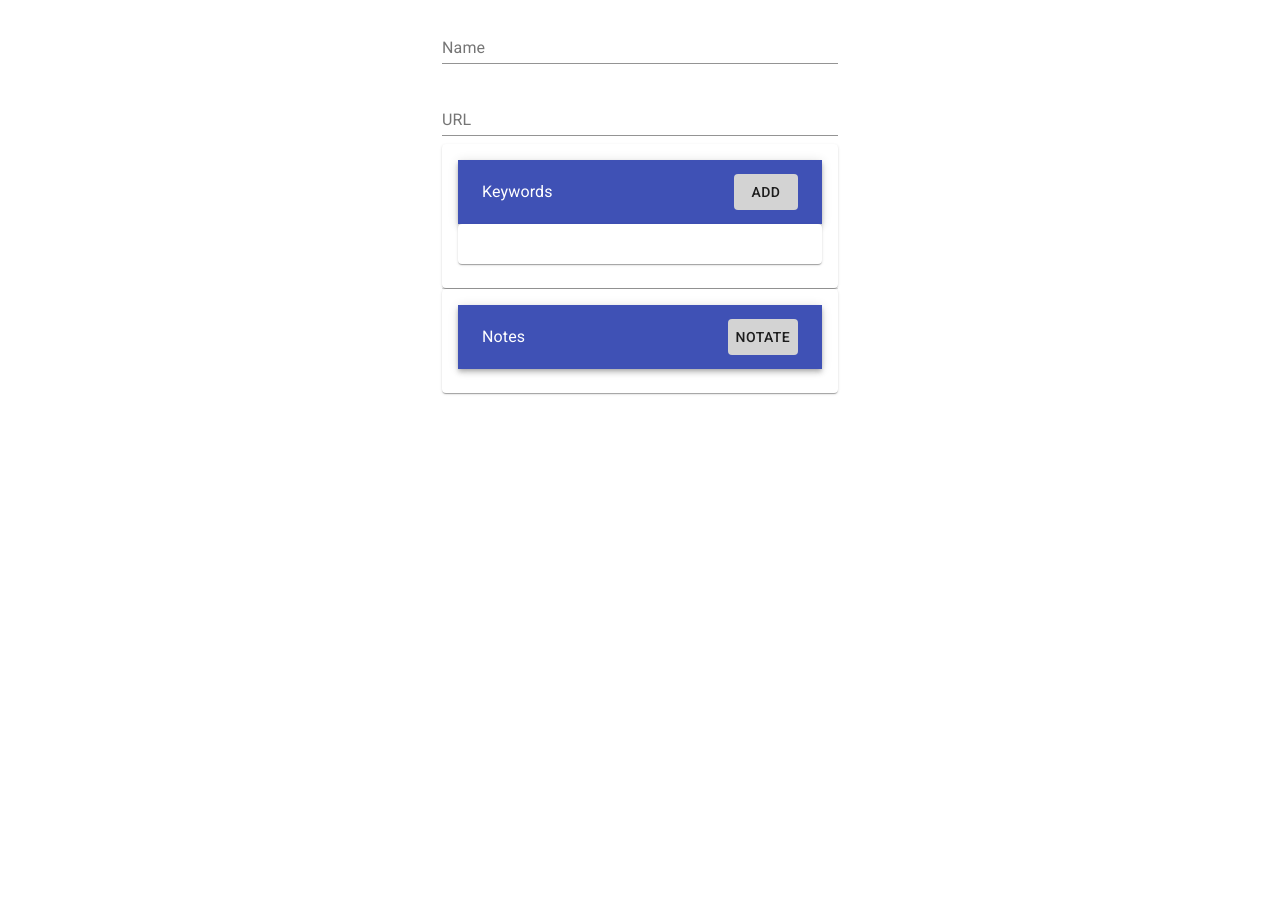
Scenario: Material component tests › keys entries
Expected: the text "Add" is shown, [752,184,780,200]
Click the button "Add": (766, 192) [734,174,798,210]
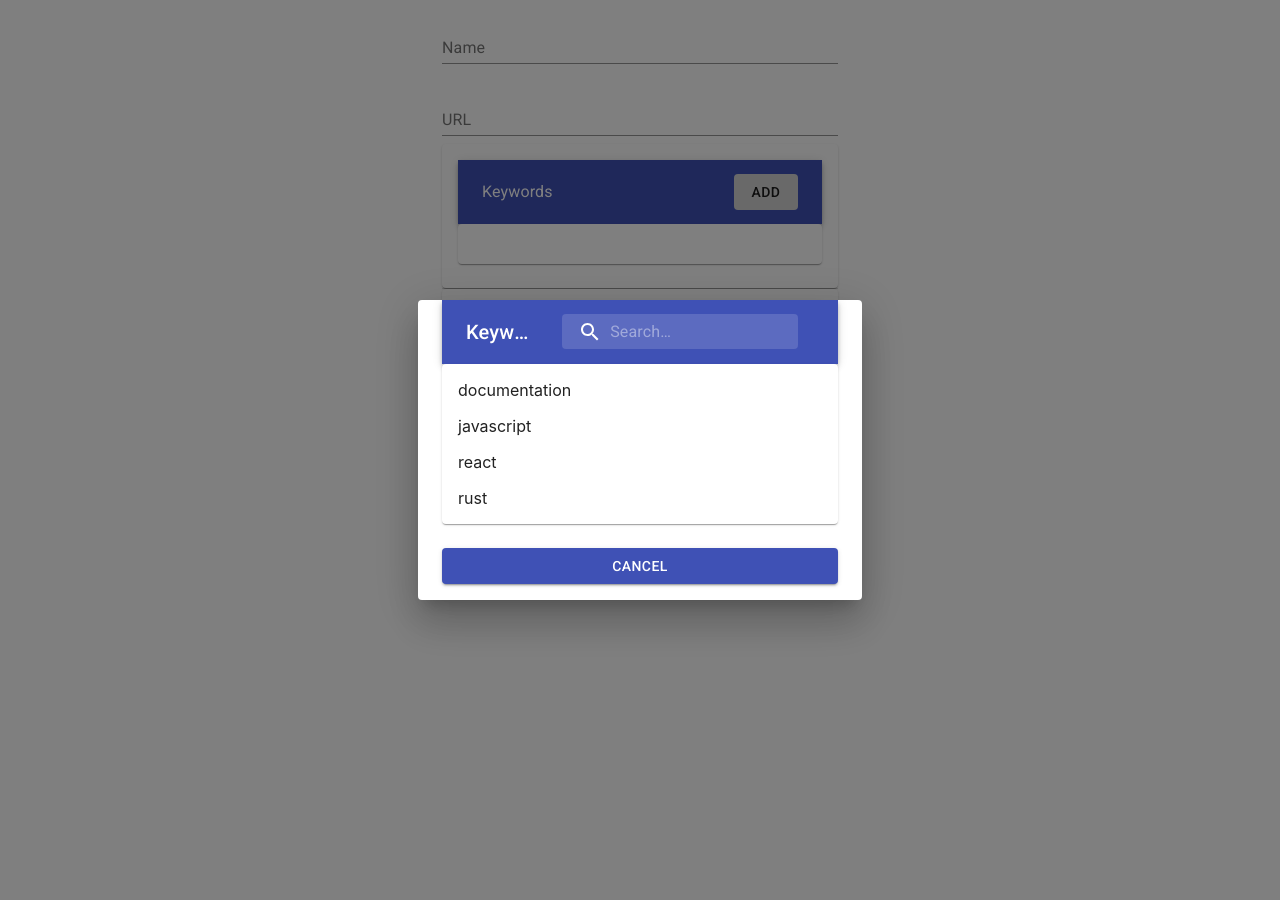
Expected: the number of buttons "documentation" is 1
Click the button "documentation": (515, 390) [458,380,571,400]
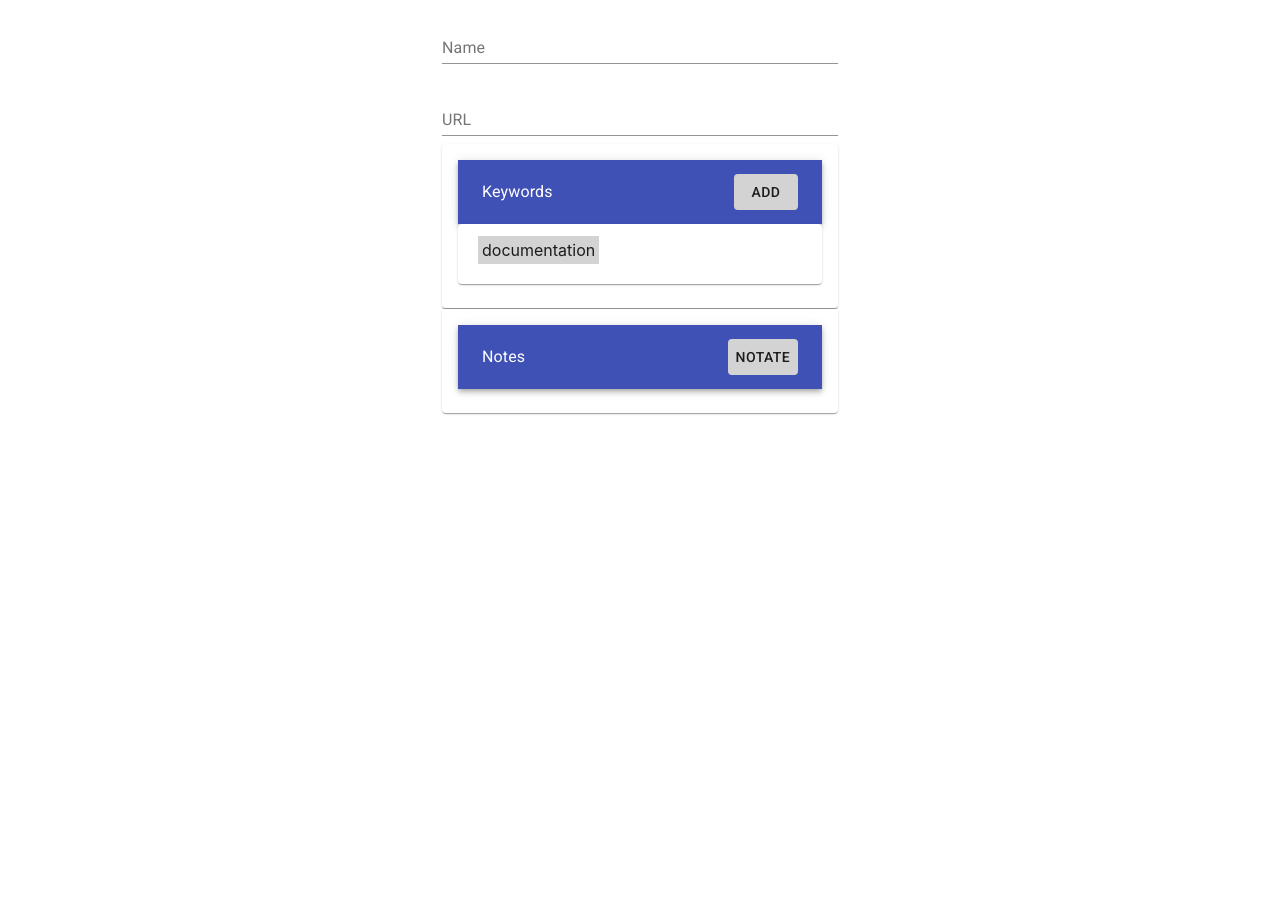
Expected: the text "documentation" is shown 2 times
